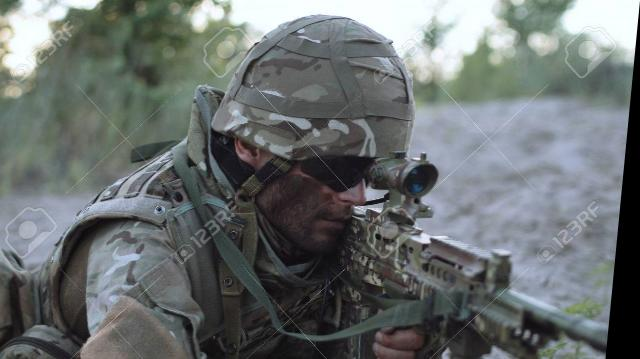other: (98, 11, 472, 358)
